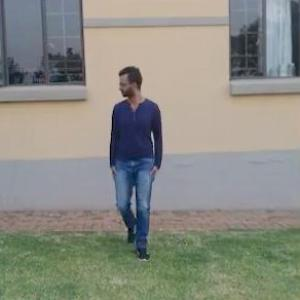follow: (102, 59, 164, 278)
